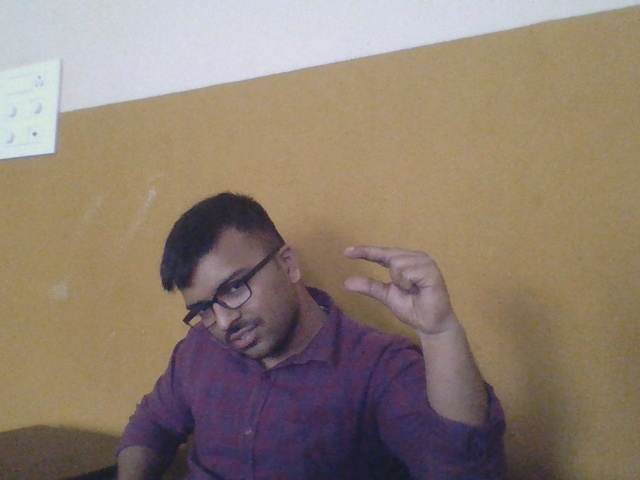No: (325, 226, 471, 337)
